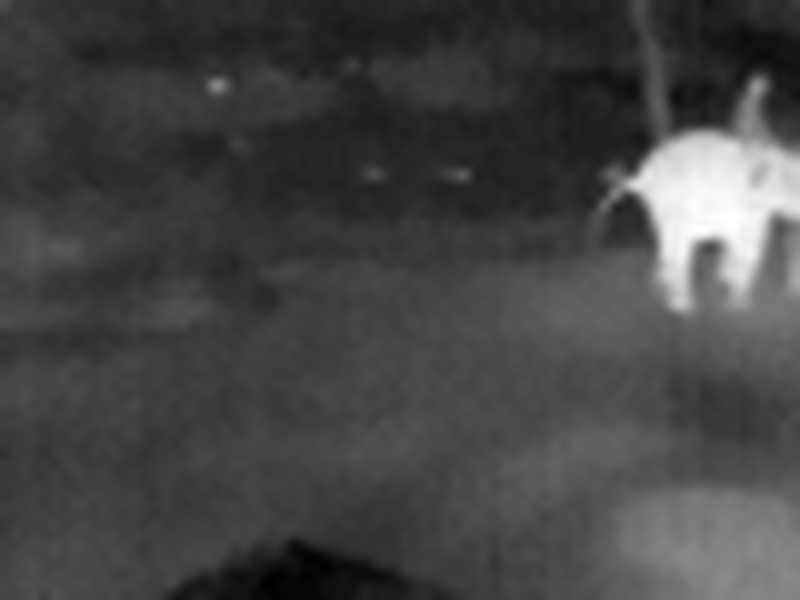elephant: (598, 96, 796, 324)
